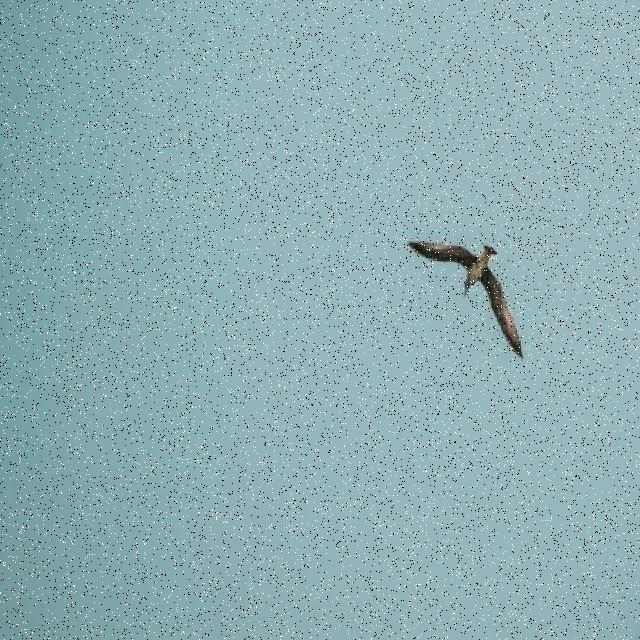bird: (407, 240, 524, 360)
